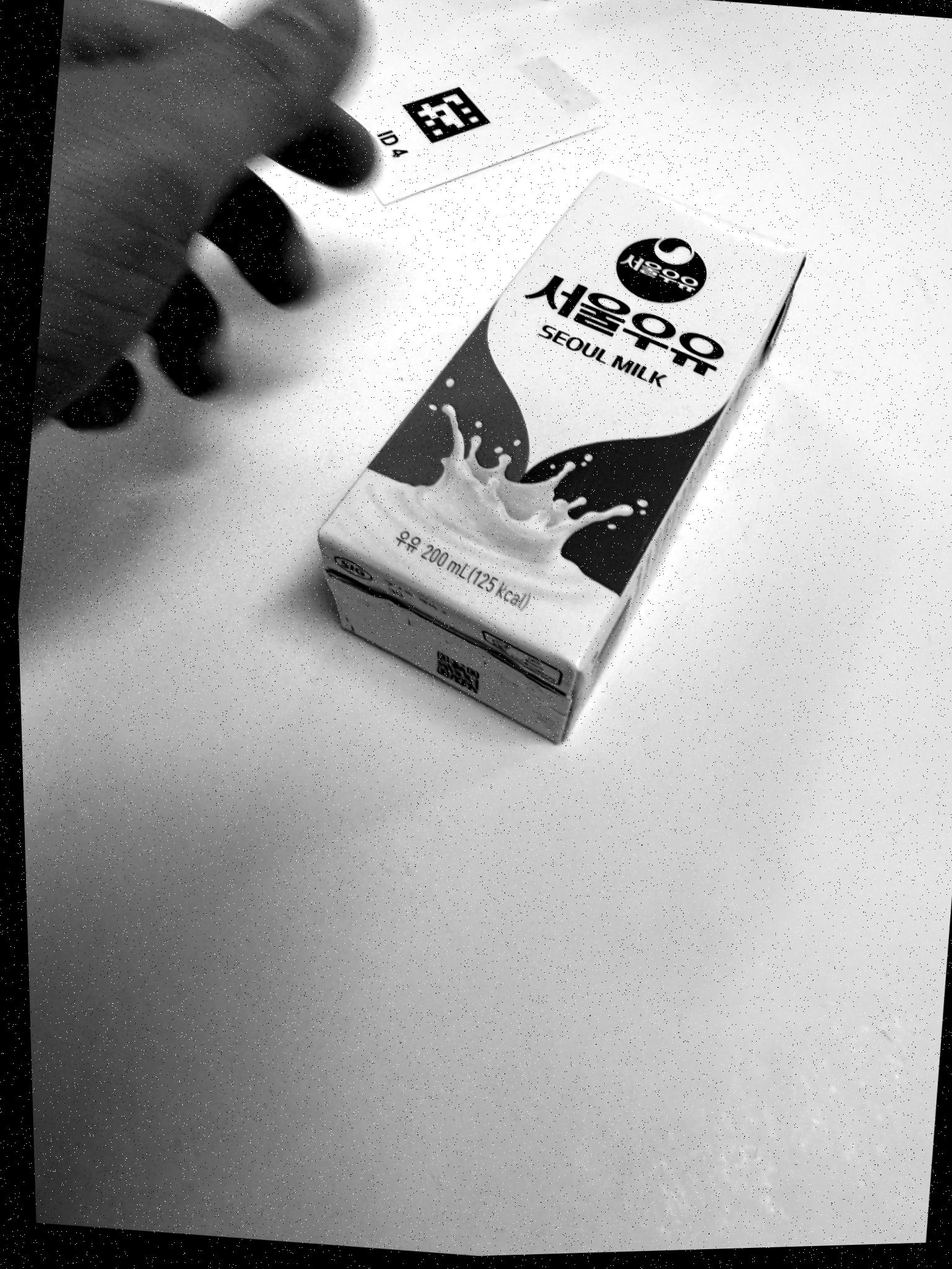milk_green: (318, 174, 803, 742)
